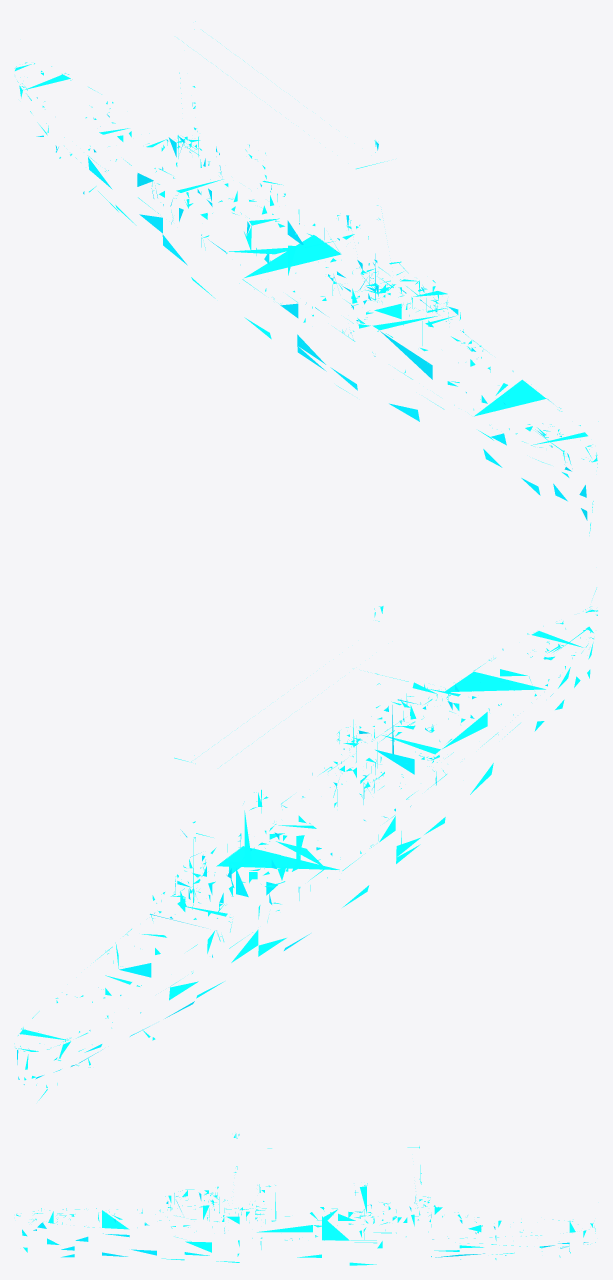
File: Hobart.glb
The picture shows the model from 3 angles, top to bottom: view 1: azimuth 30°, elevation 25°; view 2: azimuth 150°, elevation 25°; view 3: azimuth 270°, elevation 25°; orthographic projection. The views are drawn at different scales.
Bounding box in the file's own units: 1.18 × 2.72 × 11.45.
